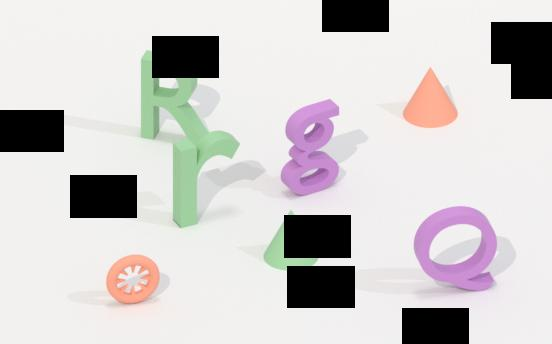R: (169, 126, 242, 230)
R-hoa: (136, 47, 213, 149)
g: (281, 96, 342, 196)
non: (400, 64, 461, 132), (261, 207, 322, 273)
q: (409, 203, 497, 295)
tron: (104, 252, 162, 308)
